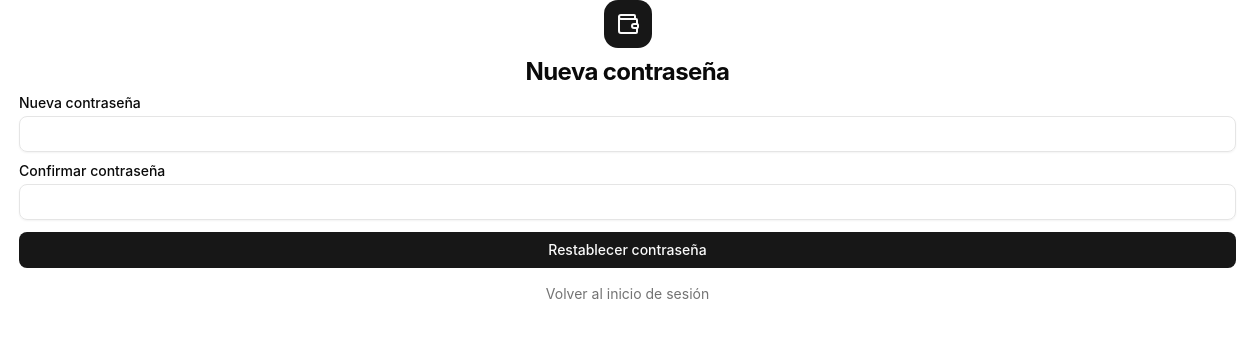
Test: ResetPasswordPage › shows validation error when passwords do not match
Type "password1" into the password field labelled "Nueva contraseña".
click(628, 134); type("password1")  # box [19,116,1236,152]
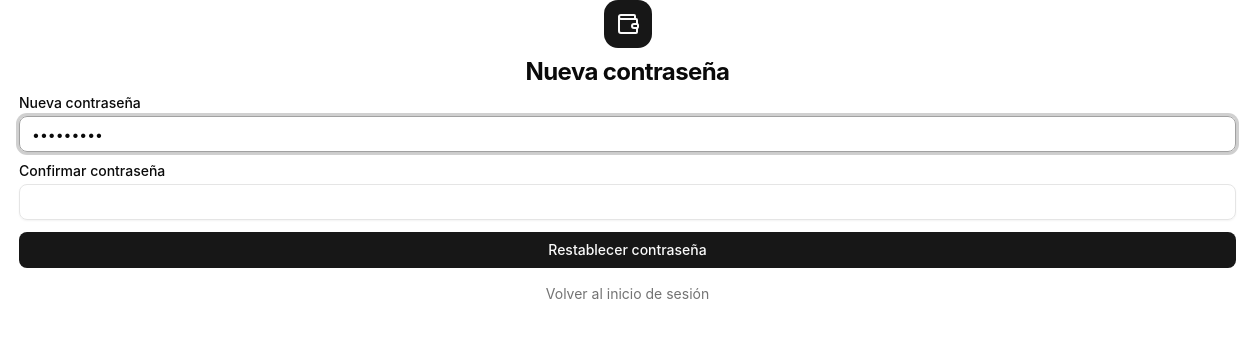
Type "password2" into the password field labelled "Confirmar contraseña".
click(628, 202); type("password2")  # box [19,184,1236,220]
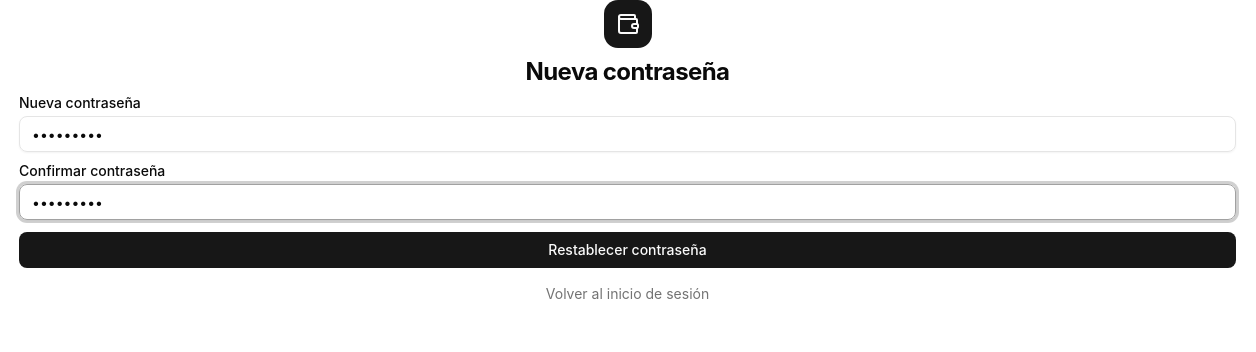
Click the button "Restablecer contraseña".
click(628, 250)  # box [19,232,1236,268]
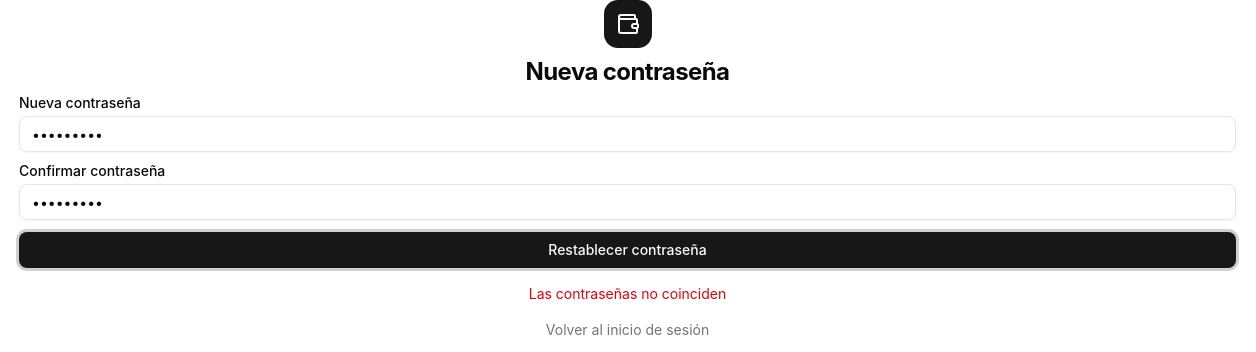
Now the text "Las contraseñas no coinciden" is shown, box [529,285,726,302]
